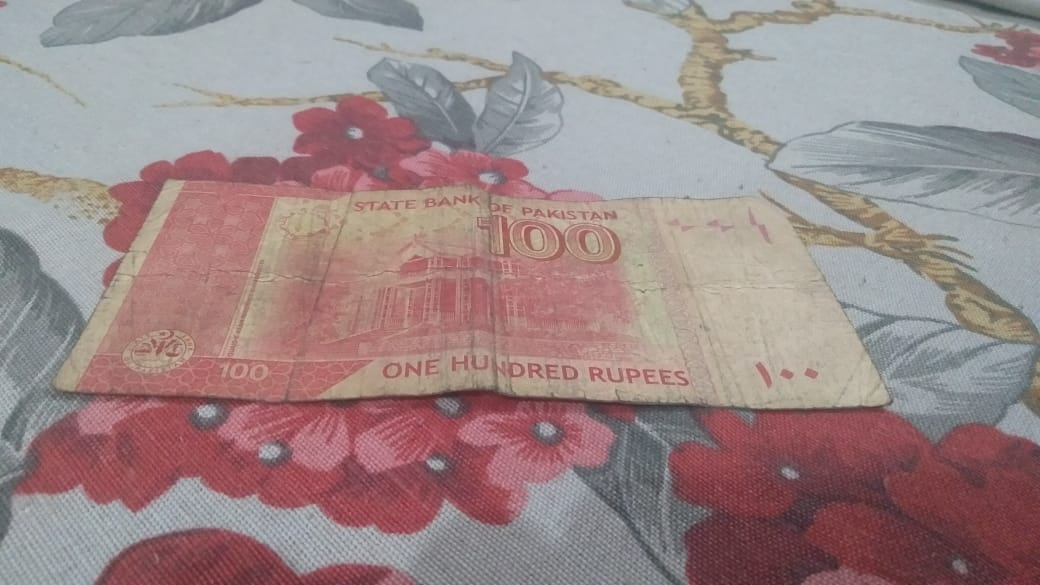100 rupee: (49, 170, 907, 409)
